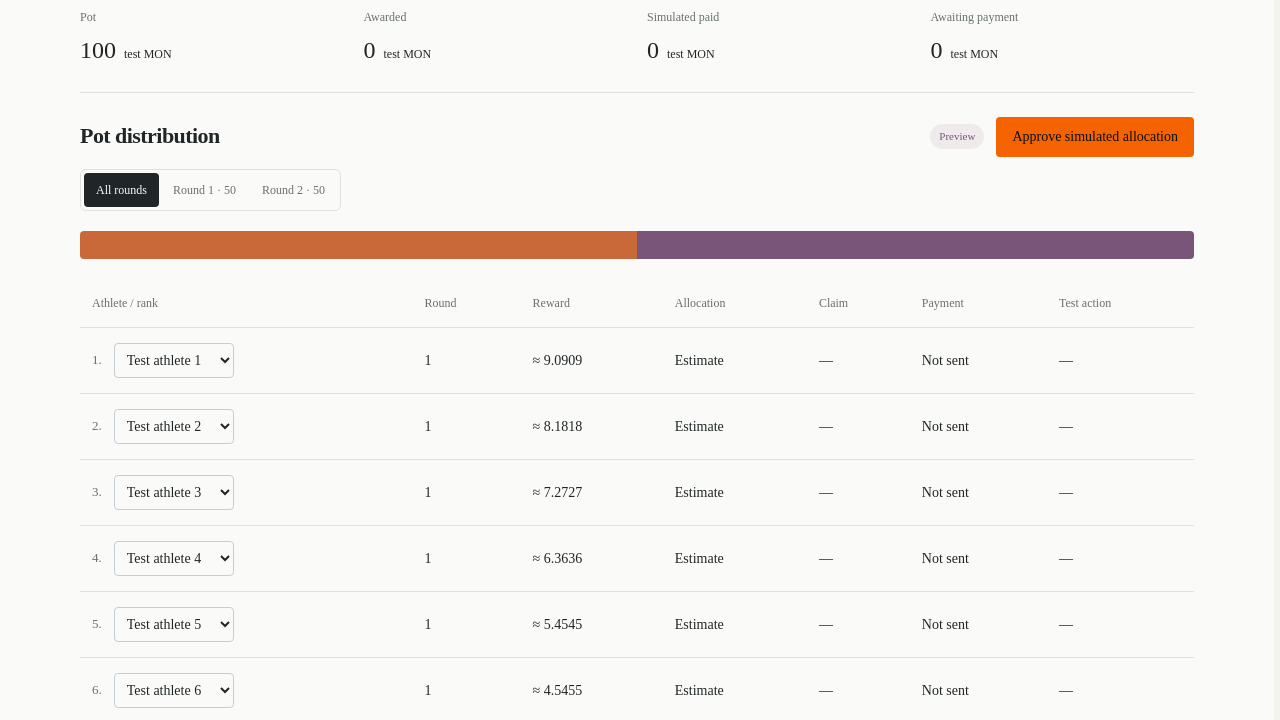
Scenario: swaps athletes without duplicating a finisher and handles invalid budgets
(page scrolled)
Select "Test athlete 5" in the dropdown named "Athlete, round 1, rank 1" at (174, 360), box x1=114 y1=343 x2=234 y2=378
(page scrolled)
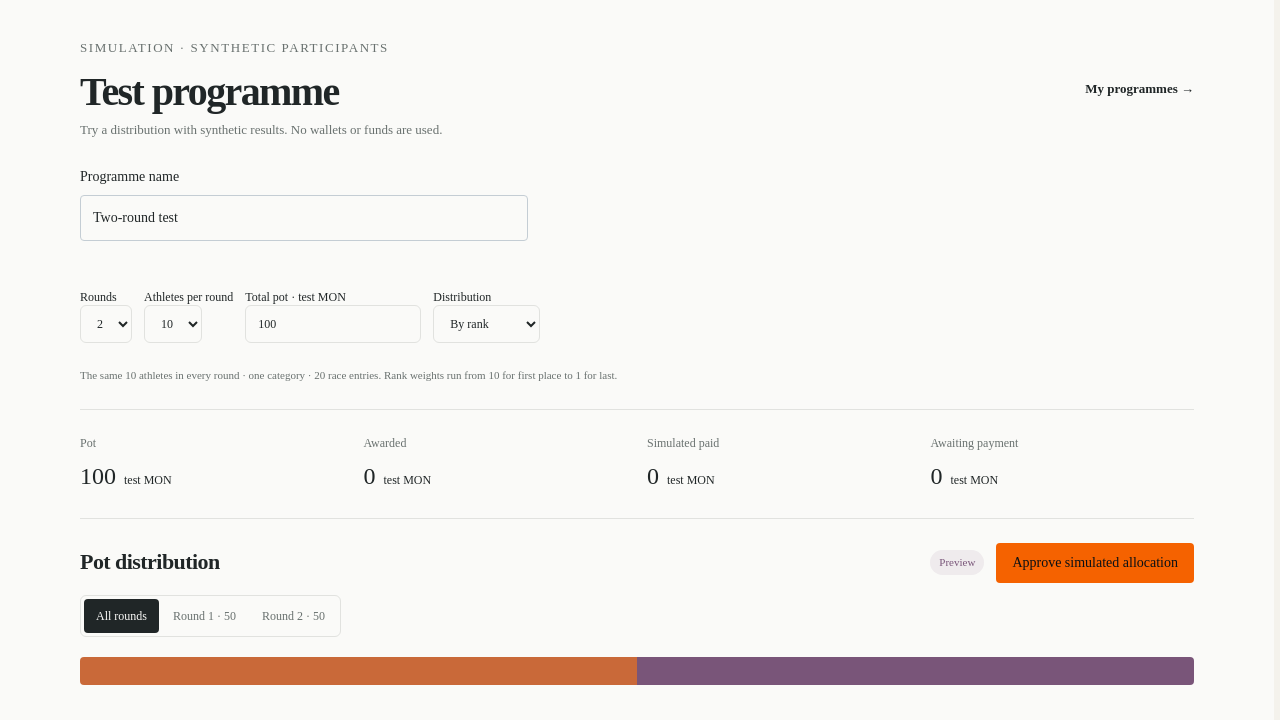
Clear the number field labelled "Total pot · test MON" at (333, 324), box x1=245 y1=305 x2=421 y2=343
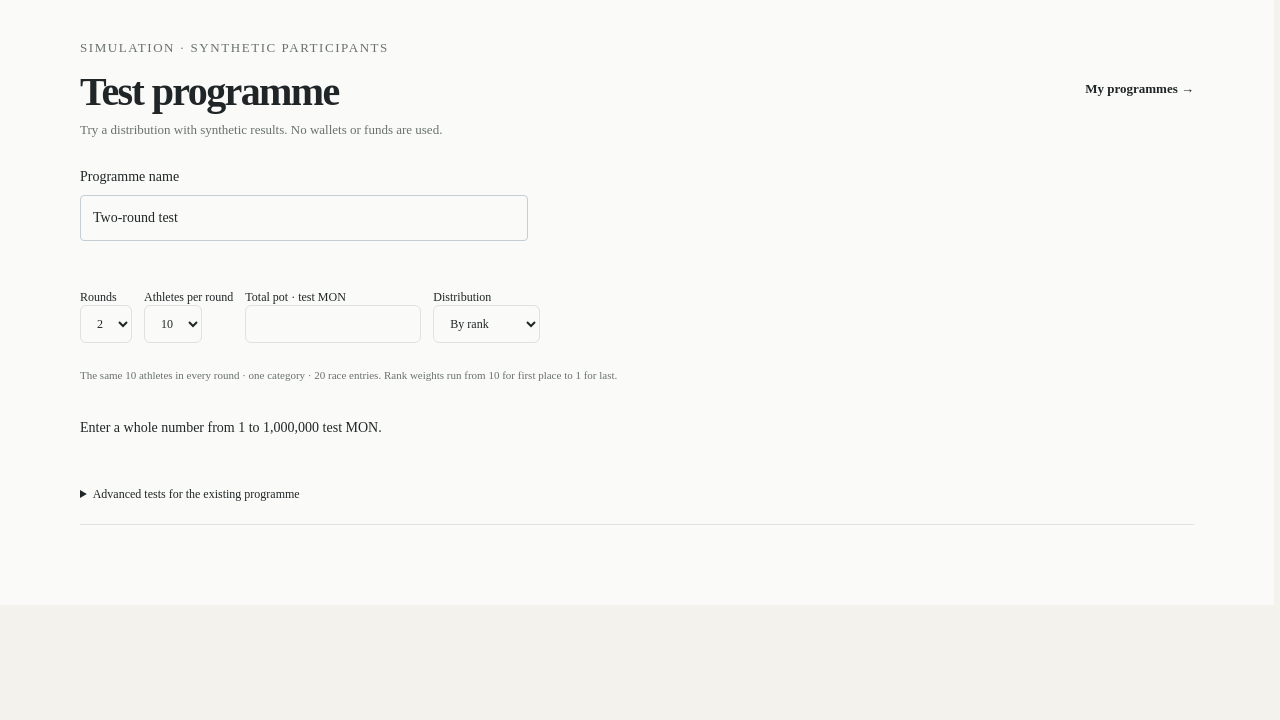
Expected: the message shows "Enter a whole number", x1=80 y1=420 x2=382 y2=435
Expected: the button "Approve simulated allocation" is gone
